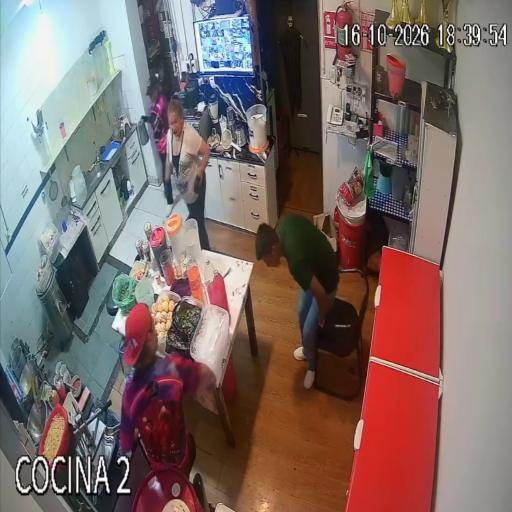Envase Ketchup: (57, 380, 66, 400)
Envase Llajua: (48, 388, 61, 405)
Jarra1: (150, 228, 166, 274)
Jarra2: (165, 214, 185, 260)
Jarra3: (183, 217, 202, 266)
Microondas: (186, 108, 211, 141)
Persona1: (120, 305, 214, 474)
Persona2: (143, 80, 168, 169)
Persona3: (165, 95, 210, 250)
Persona4: (255, 213, 339, 389)
Taper: (40, 225, 60, 261)
Taper2: (166, 296, 203, 370)
Taper3: (190, 304, 230, 384)
Taper4: (146, 290, 182, 352)
olla1: (19, 358, 38, 401)
